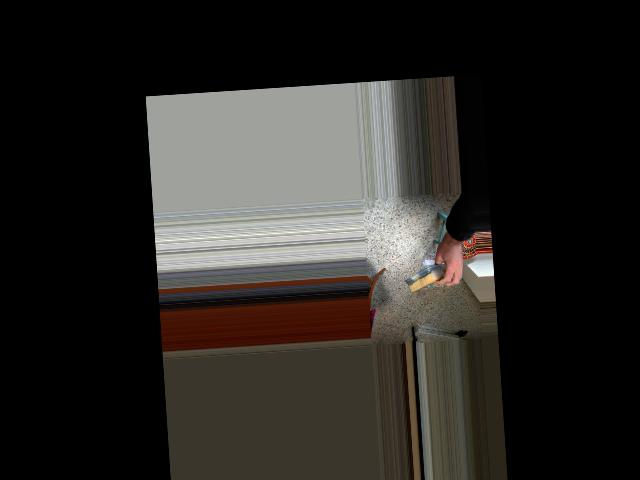cheese: (400, 257, 456, 296)
